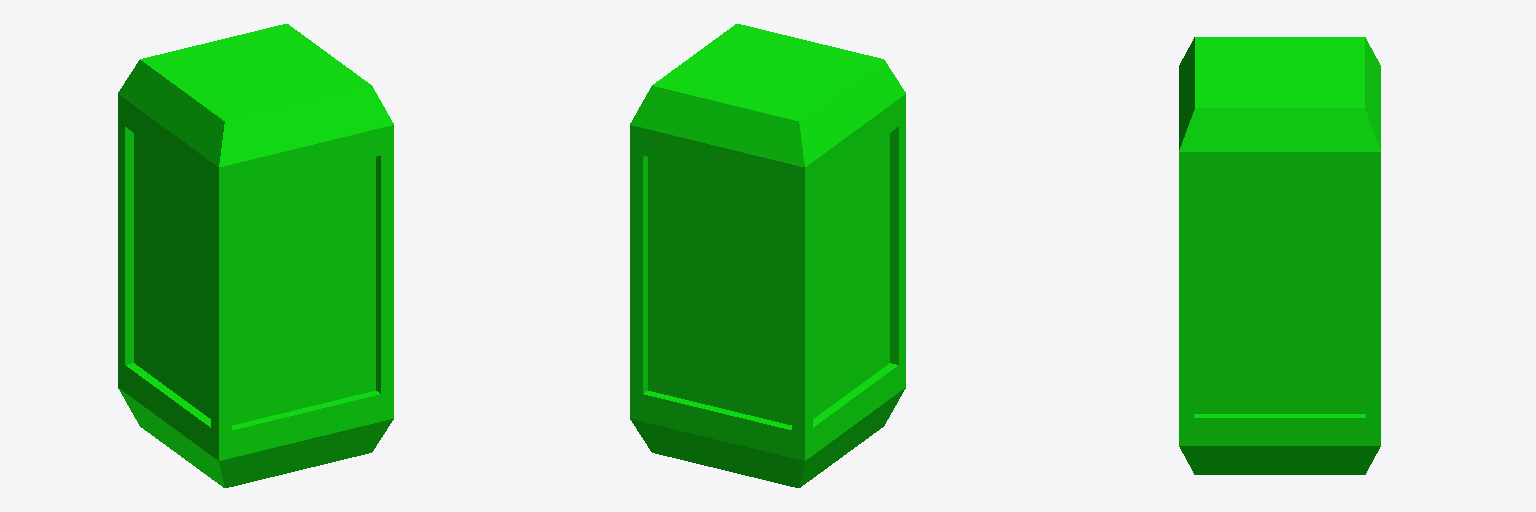
The picture shows the model from 3 angles: view 1: azimuth 30°, elevation 25°; view 2: azimuth 150°, elevation 25°; view 3: azimuth 270°, elevation 25°; orthographic projection.
Visible parts, largest first — view 1: Tile_Block_(Green)_Cube.004; view 2: Tile_Block_(Green)_Cube.004; view 3: Tile_Block_(Green)_Cube.004.
Boxes of the visible parts, <box> form: Tile_Block_(Green)_Cube.004: <box>118,24,393,487</box>; Tile_Block_(Green)_Cube.004: <box>630,24,905,487</box>; Tile_Block_(Green)_Cube.004: <box>1179,37,1380,474</box>.
Bounding box in the file's own units: 2 × 4 × 2.
1 materials, 1 textured.